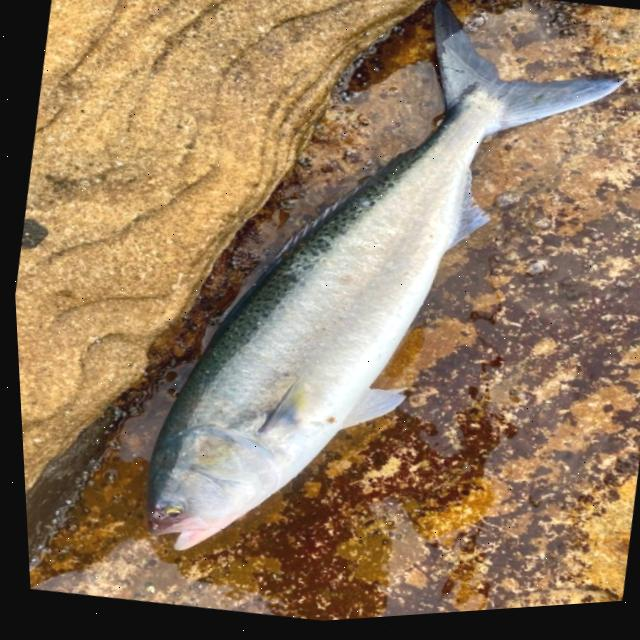Australian Salmon: (76, 0, 640, 636)
